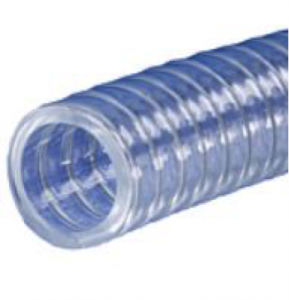Nonrec_Tangler: (3, 18, 289, 252)
